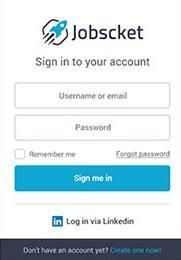button: (16, 167, 171, 192)
checkbox: (15, 150, 26, 161)
icon: (53, 216, 65, 228)
input: (16, 116, 171, 142), (16, 85, 171, 109)
label: (35, 56, 153, 70), (67, 217, 137, 228), (28, 149, 81, 161)
